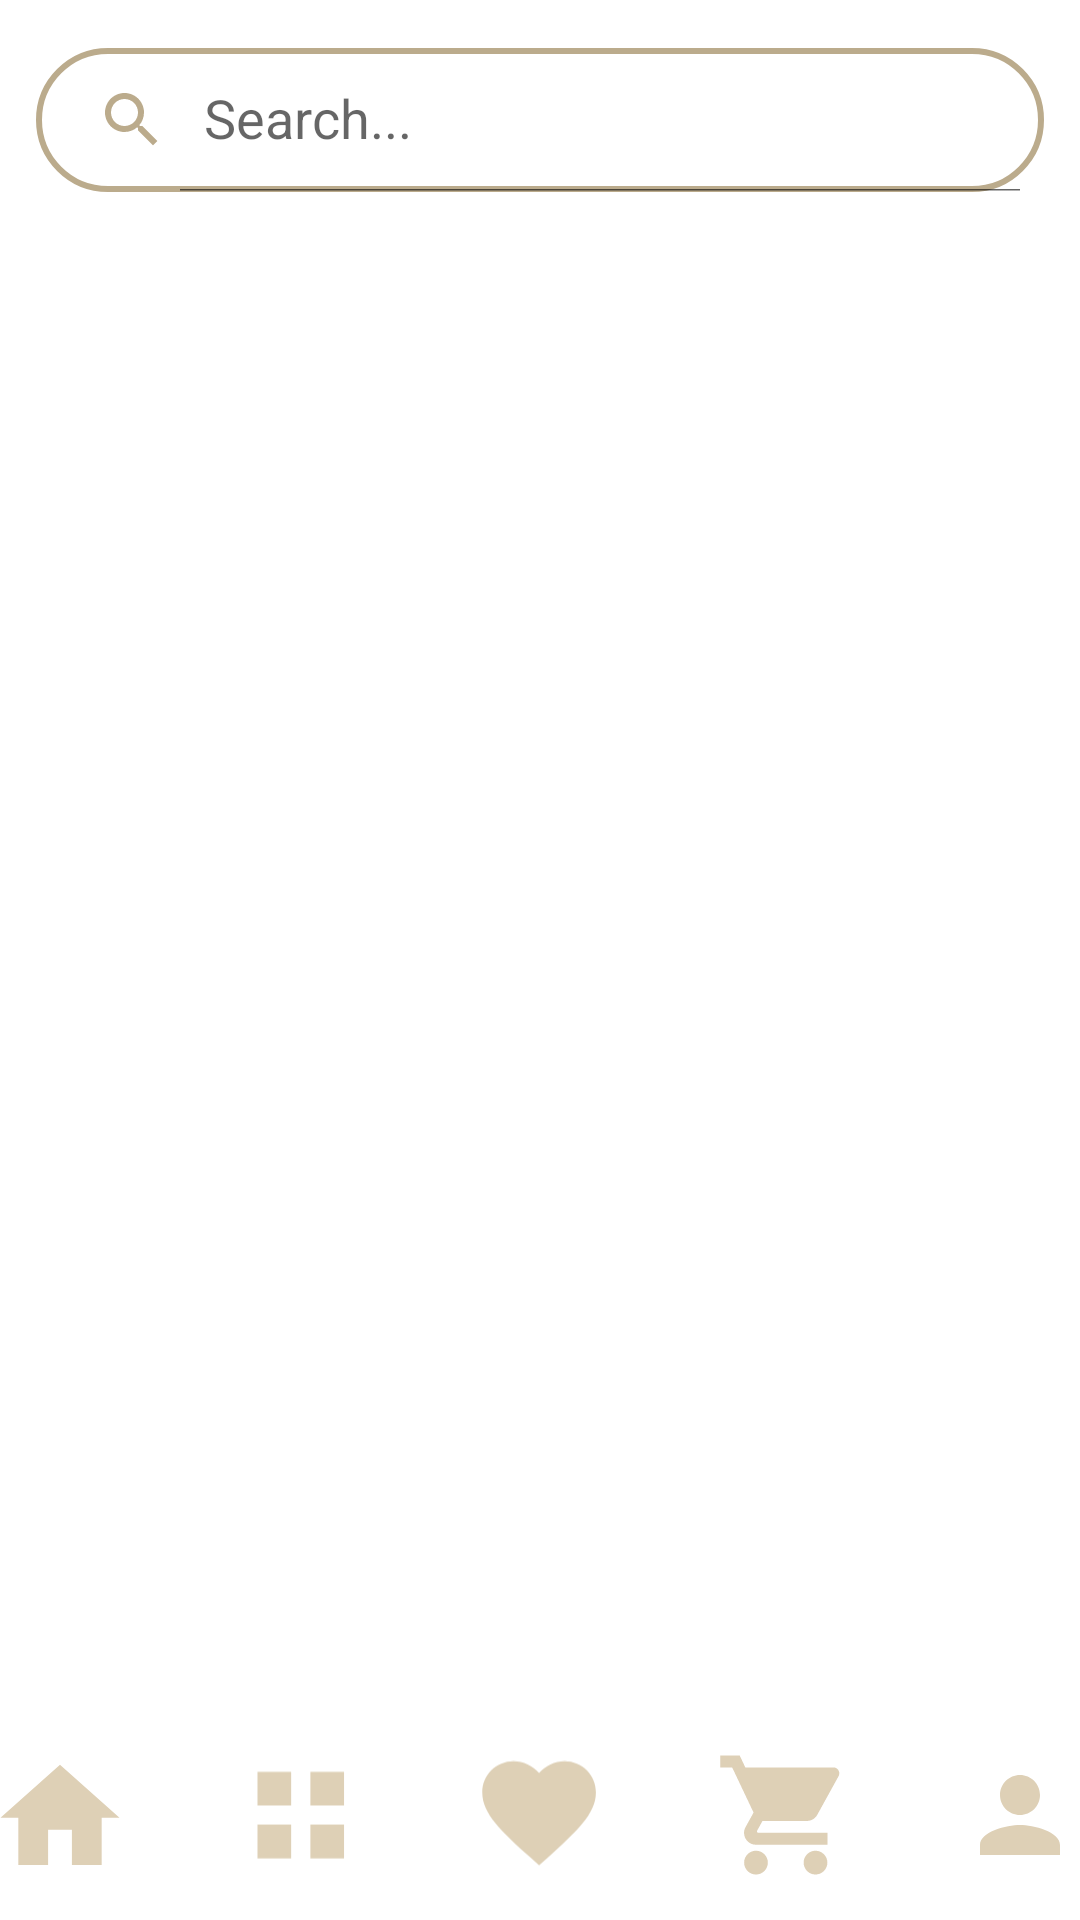

Screen size 1080px x 1920px. Icon name, then its box in pixels as (x1, y1, x2, y2):
cart: (720, 1755, 839, 1875)
catalog: (257, 1772, 344, 1859)
heart: (482, 1761, 596, 1865)
home: (1, 1765, 119, 1865)
person: (980, 1775, 1060, 1855)
